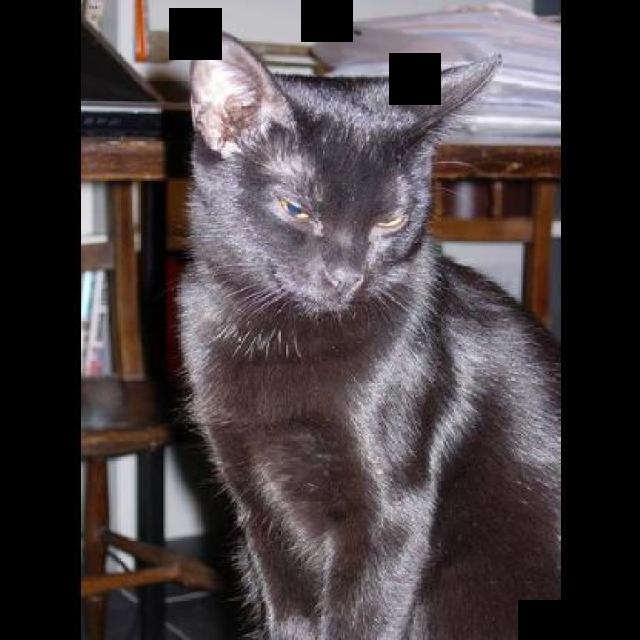unauthorized: (172, 27, 560, 638)
